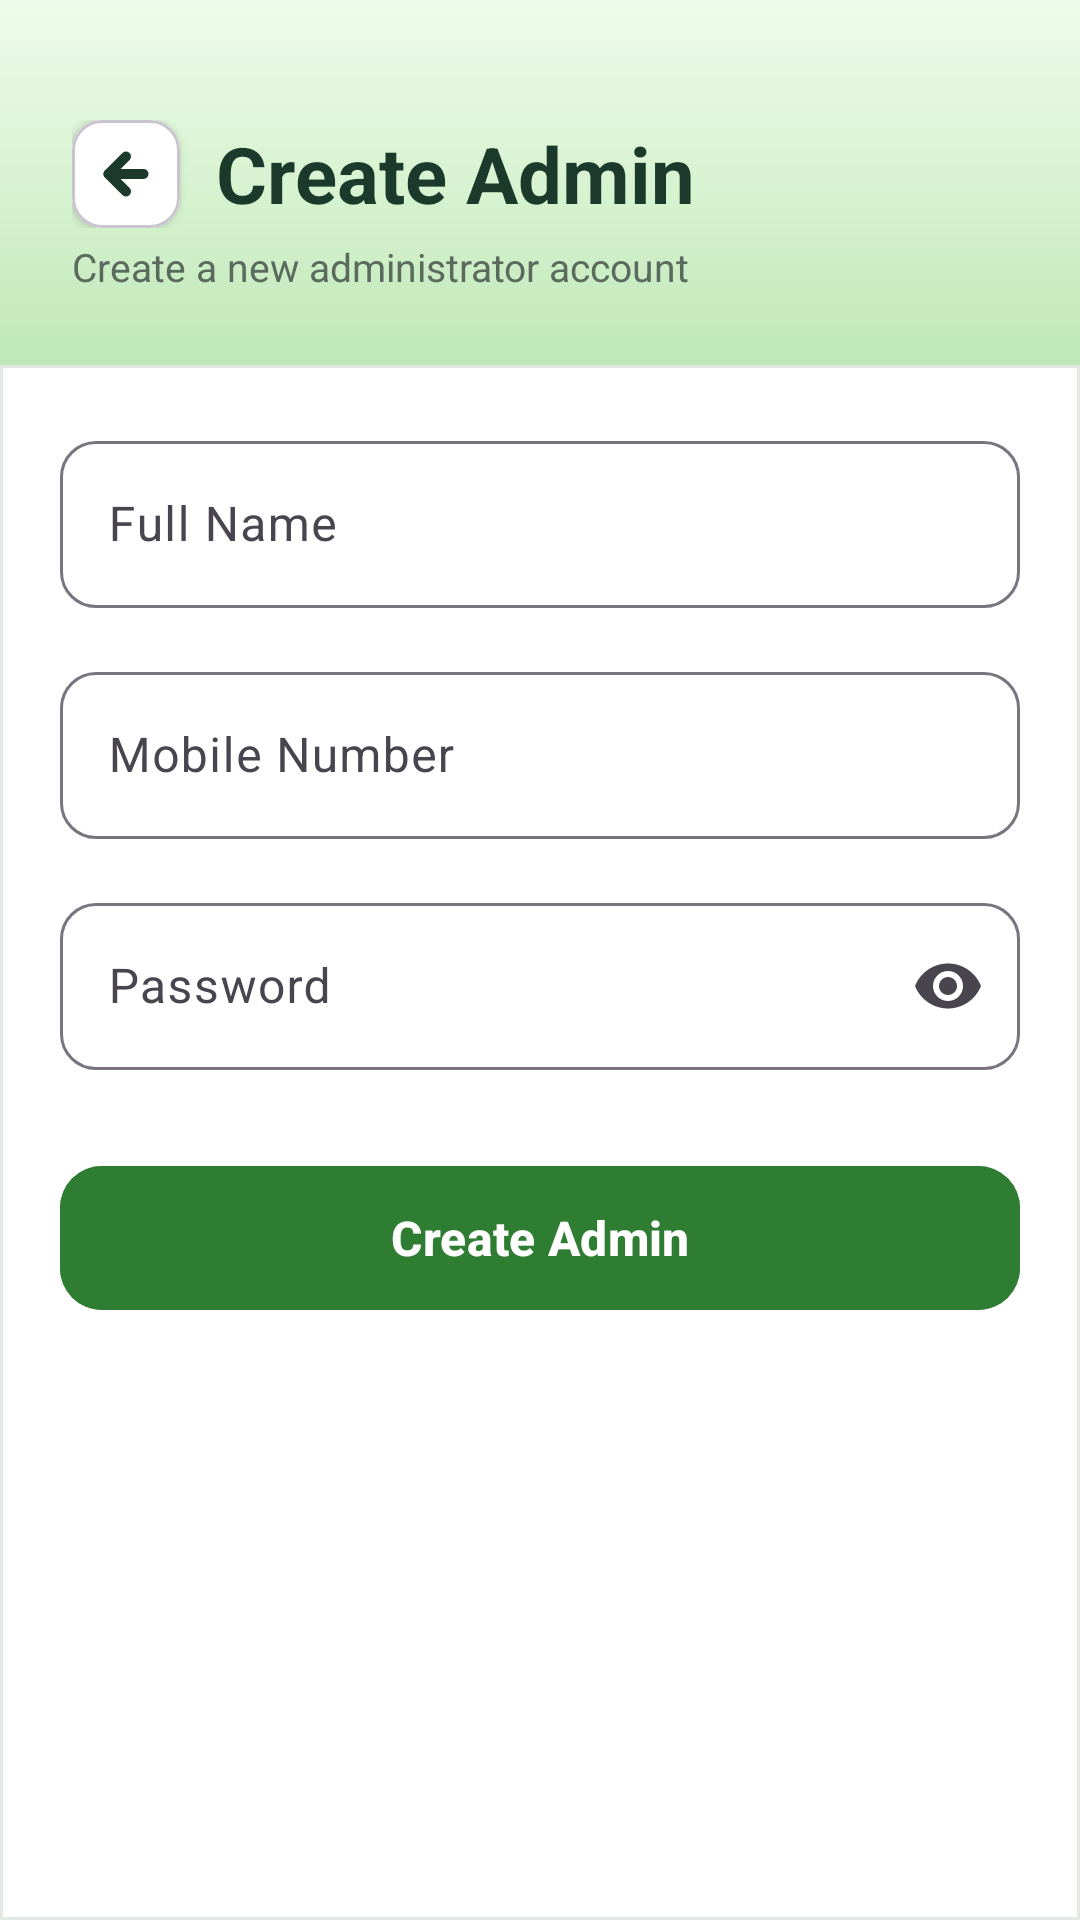

Icon click points for this 1080w x 1920h phone screenshot, format (x=x, y=y):
back arrow: (x=126, y=174)
